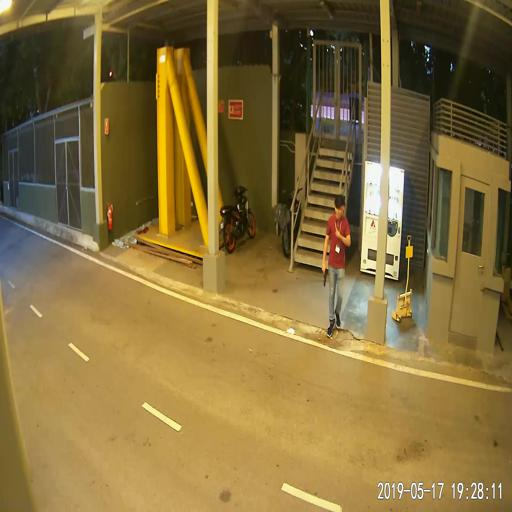pistol: (321, 263, 328, 286)
